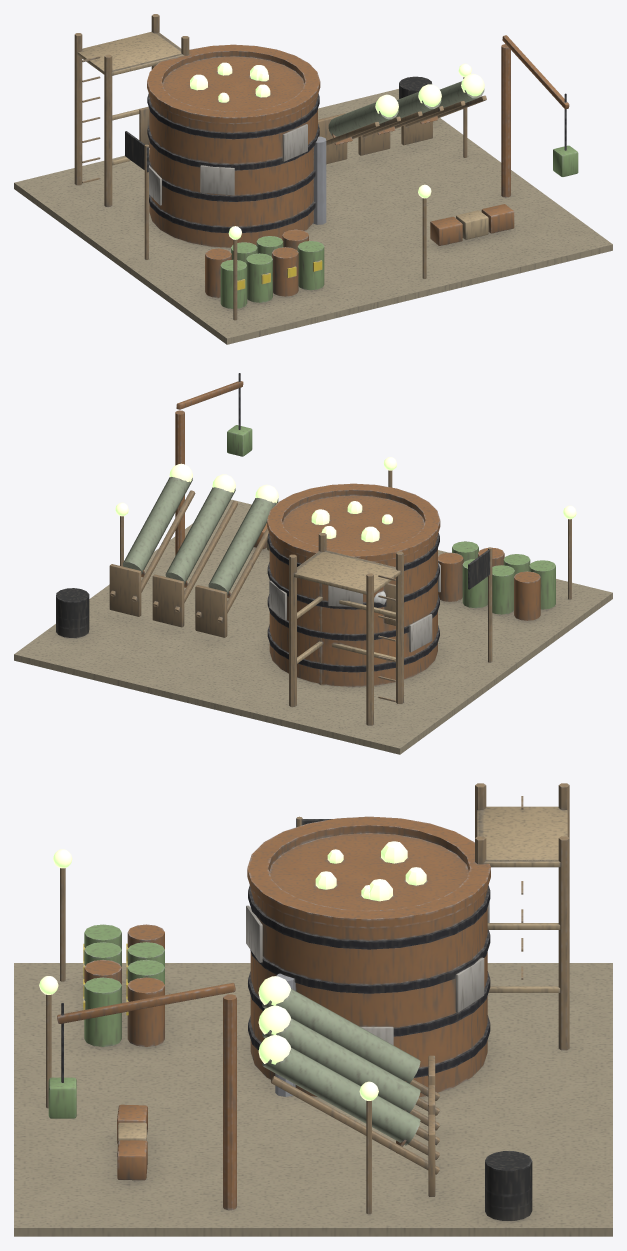
Rendered from shadow_super.glb.
The picture shows the model from 3 angles, top to bottom: view 1: azimuth 30°, elevation 25°; view 2: azimuth 150°, elevation 25°; view 3: azimuth 270°, elevation 25°; orthographic projection. The views are drawn at different scales.
Visible parts, largest first — view 1: Hull; view 2: Hull; view 3: Hull.
Part boxes in pixels (box(x1,y1,x2,y2)): Hull: box(14, 14, 612, 344); Hull: box(14, 373, 612, 754); Hull: box(14, 783, 612, 1236).
Bounding box in the file's own units: 9 × 3.91 × 8.6.
14 materials, 14 textured.
